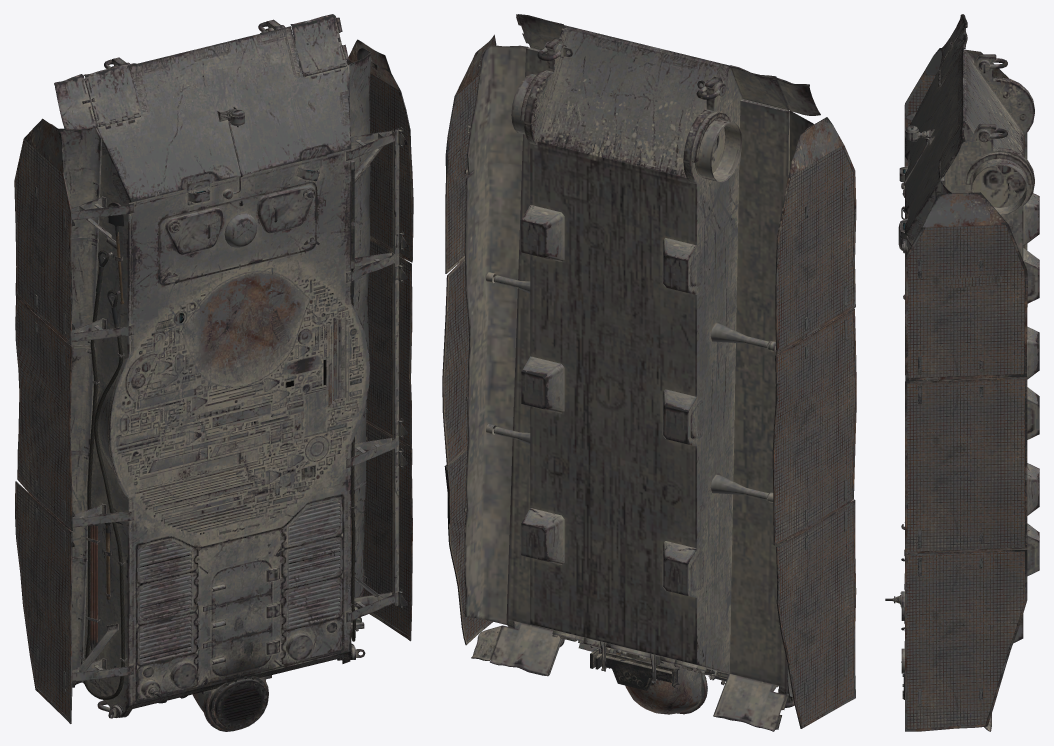
The model's file is Hull.glb.
3 renders of one model, left to right at view 1: azimuth 30°, elevation 25°; view 2: azimuth 150°, elevation 25°; view 3: azimuth 270°, elevation 25°, orthographic. The views are drawn at different scales.
Visible parts, largest first — view 1: set_0_group_0; view 2: set_0_group_0; view 3: set_0_group_0.
Boxes of the visible parts, x1,y1,x2,y2 form: set_0_group_0: [14, 14, 413, 731]; set_0_group_0: [442, 14, 856, 731]; set_0_group_0: [885, 14, 1039, 731].
Bounding box in the file's own units: 4.09 × 7.57 × 1.71.
Materials: 1 (1 with a texture image).
